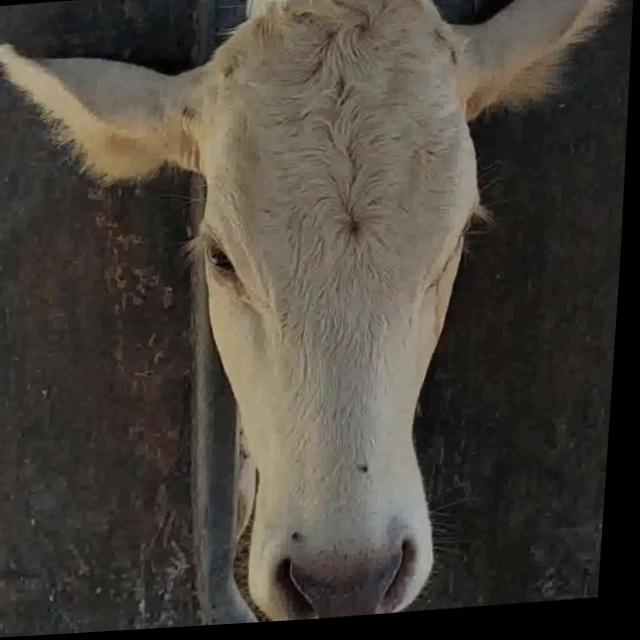cowFace: (169, 0, 496, 631)
